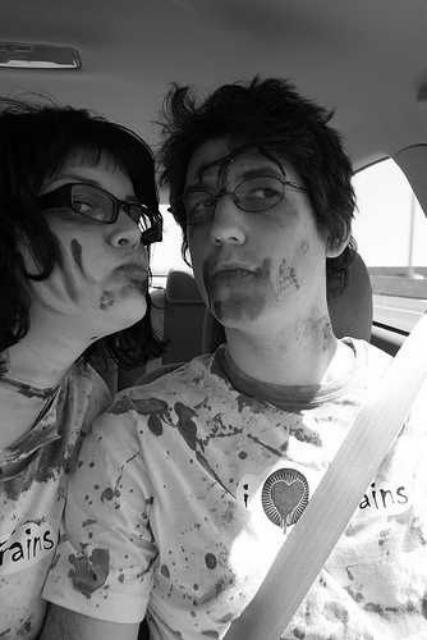SafeDriving: (241, 175, 288, 214), (182, 189, 220, 227)
Seatbelt: (215, 304, 427, 640)
